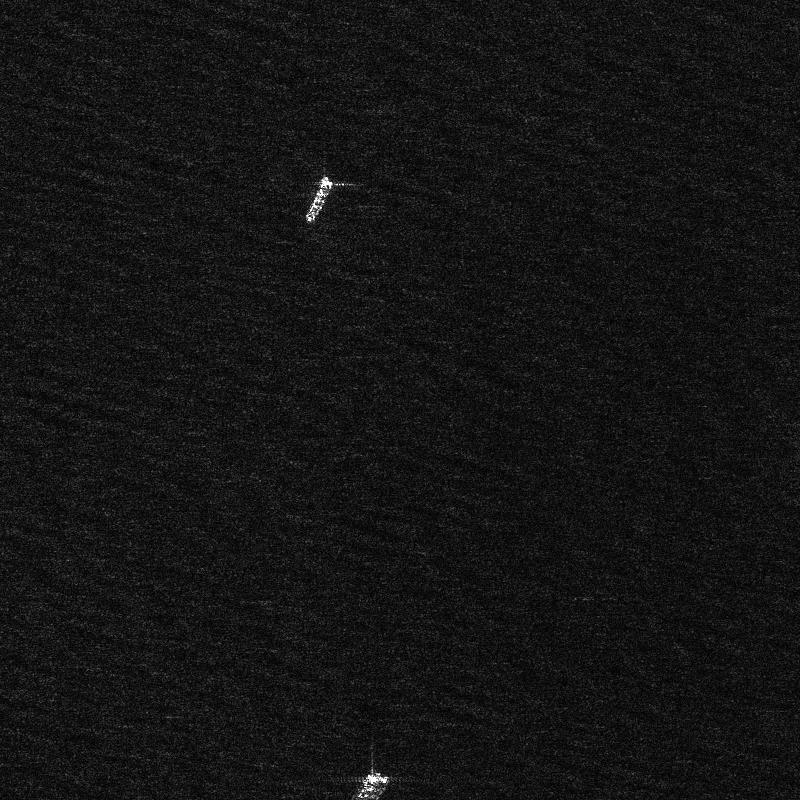ship: (305, 176, 332, 223), (352, 772, 388, 799)
